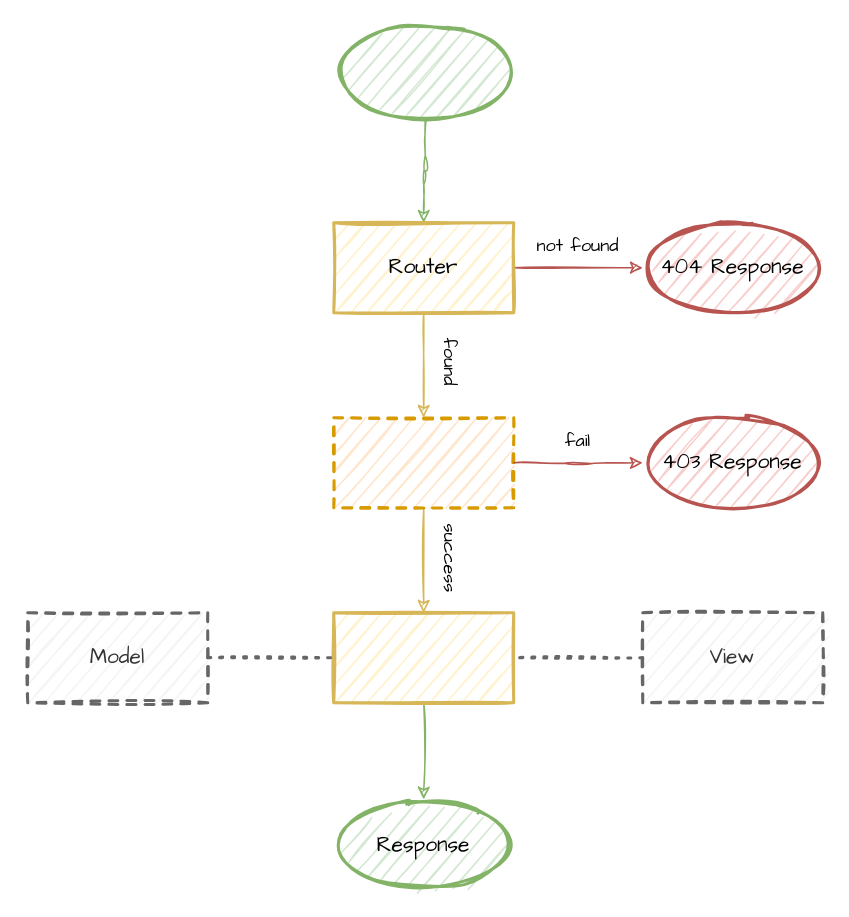
Some shapes in this 849 by 917 pixel diagram are drawn without their labels. The shapes that lost their labels are listed below. From the top down, each one's centre as x and y in pixels, then its label:
the point at 424,72: Request
the point at 423,462: Middleware
the point at 423,657: Controller
